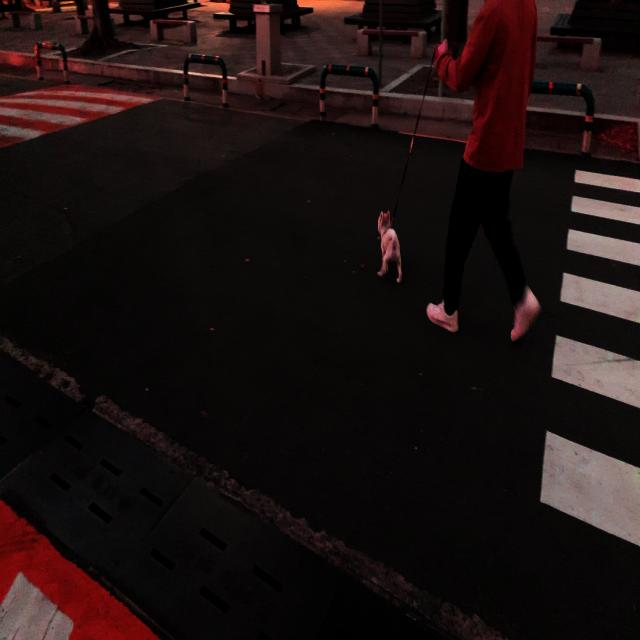Leashed_Dog: (377, 38, 462, 284)
